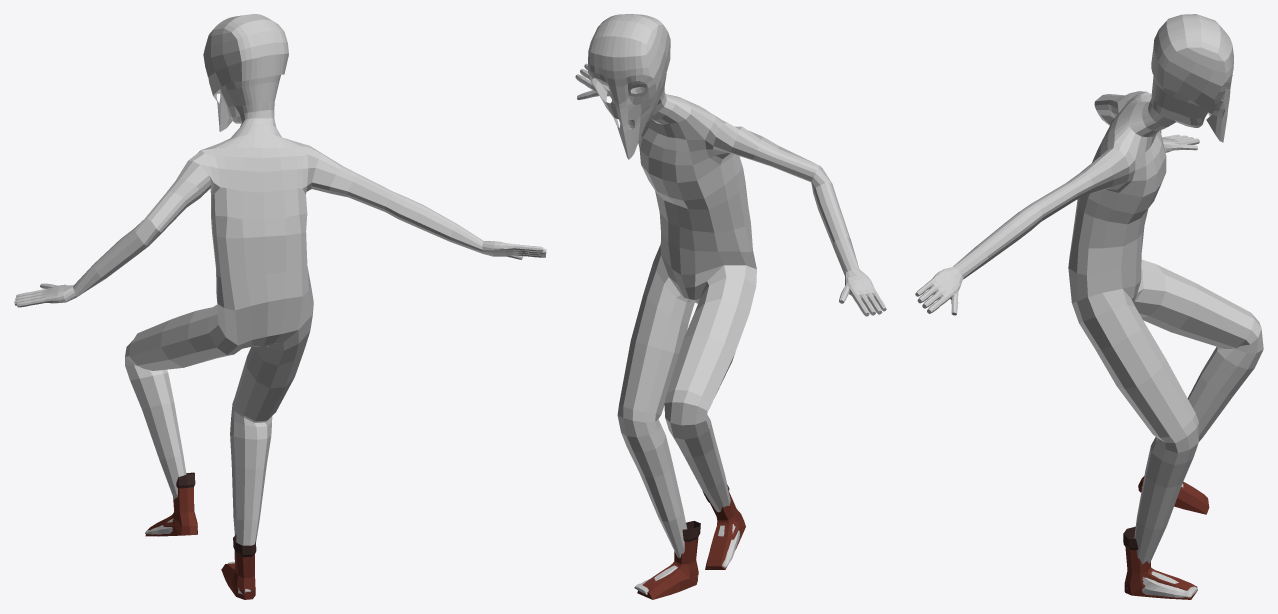
The model's file is saltoadelante_000127.obj.
3 views of the same model, side by side, from view 1: azimuth 30°, elevation 25°; view 2: azimuth 150°, elevation 25°; view 3: azimuth 270°, elevation 25° (orthographic). The views are drawn at different scales.
Parts seen in each view (by area): view 1: Plane.002_Plane.001, Plane.004, Plane.003; view 2: Plane.002_Plane.001, Plane.003, Plane.004; view 3: Plane.002_Plane.001, Plane.003, Plane.004.
Boxes of the visible parts, <box> form: Plane.002_Plane.001: <box>14,14,546,594</box>; Plane.004: <box>145,472,197,536</box>; Plane.003: <box>221,534,256,599</box>; Plane.002_Plane.001: <box>575,14,886,594</box>; Plane.003: <box>637,521,700,599</box>; Plane.004: <box>702,485,745,569</box>; Plane.002_Plane.001: <box>915,14,1263,597</box>; Plane.003: <box>1123,526,1197,599</box>; Plane.004: <box>1138,476,1209,514</box>.
Size of the model in its own units: 5.15 by 6.57 by 3.54.
